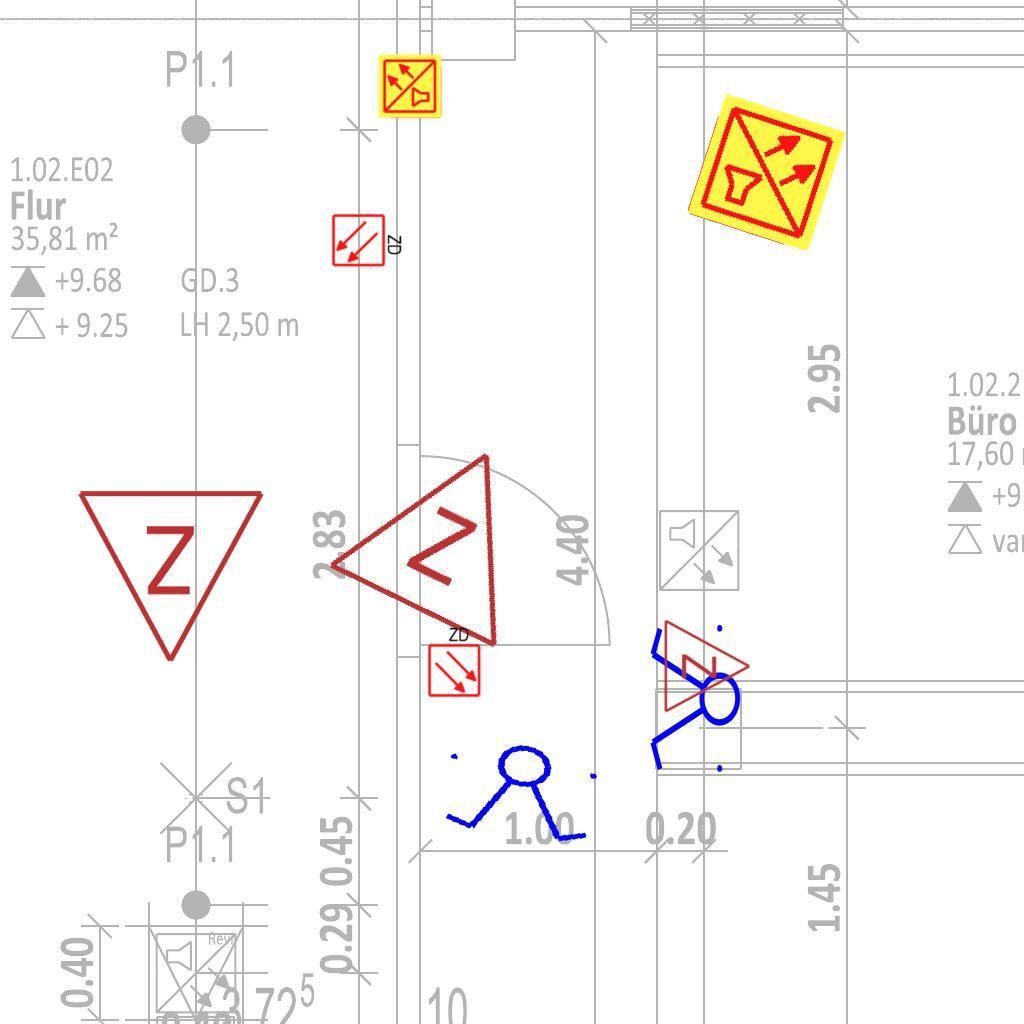OKW_Multisensormelder_(Kombination_optischer_Rauch-Kahlenmonoxid_Waerme-Melder): (683, 89, 851, 257), (377, 53, 443, 119)
Serienschalter: (432, 732, 612, 852), (646, 616, 742, 784)
ZD_Melder_in_Zwischendecke_mit_Revisionsoeffnung_mind_40_x_40_cm: (425, 624, 482, 698), (331, 211, 405, 268)
Zimmersignalleuchte: (315, 397, 579, 663), (75, 476, 271, 676), (657, 616, 757, 714)
